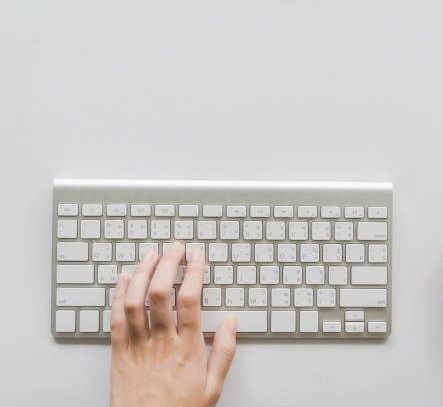keyboard: (51, 192, 392, 337)
